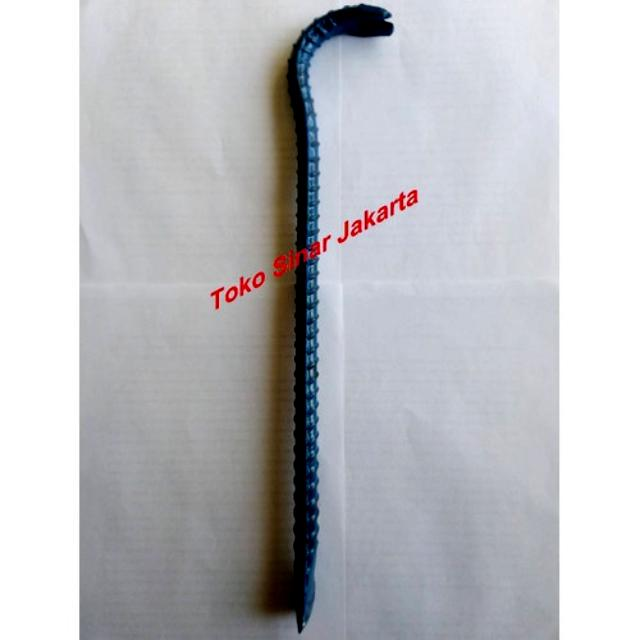crow bar: (284, 4, 401, 616)
